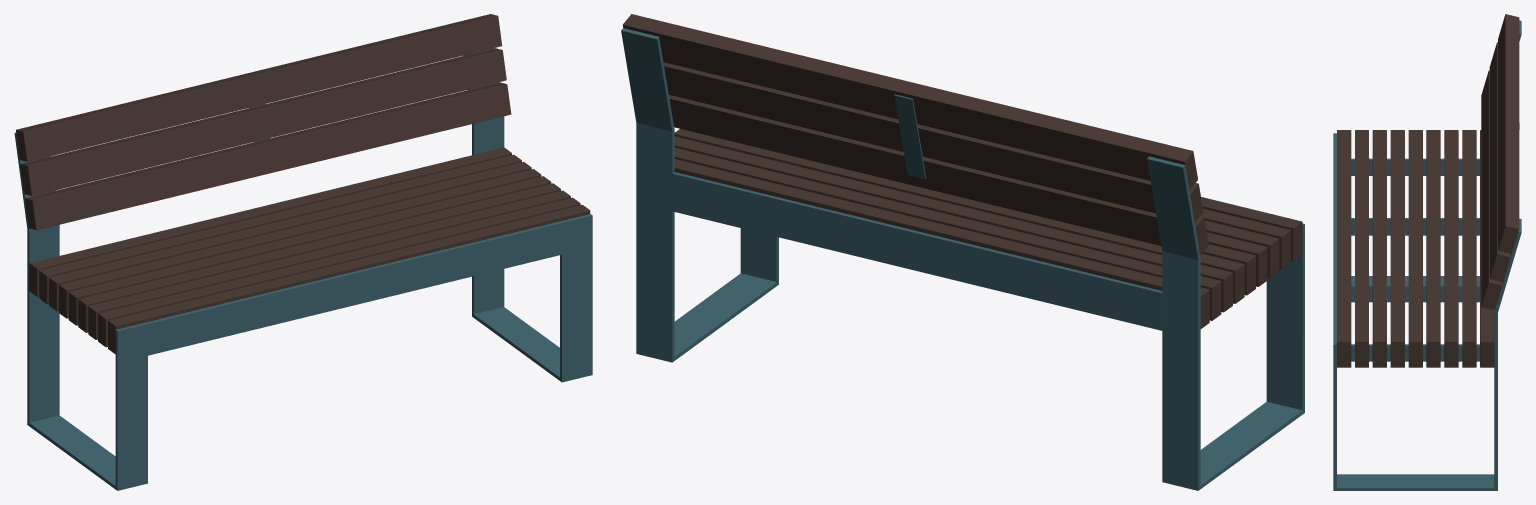
3 renders of one model, left to right at view 1: azimuth 30°, elevation 25°; view 2: azimuth 150°, elevation 25°; view 3: azimuth 270°, elevation 25°, orthographic. The views are drawn at different scales.
Visible parts, largest first — view 1: K5_1400; view 2: K5_1400; view 3: K5_1400.
Part boxes in pixels (bbox=[...]): K5_1400: bbox=[14, 14, 592, 490]; K5_1400: bbox=[621, 14, 1304, 490]; K5_1400: bbox=[1333, 14, 1521, 490].
Size of the model in its own units: 1.4 by 0.8179 by 0.5259.
